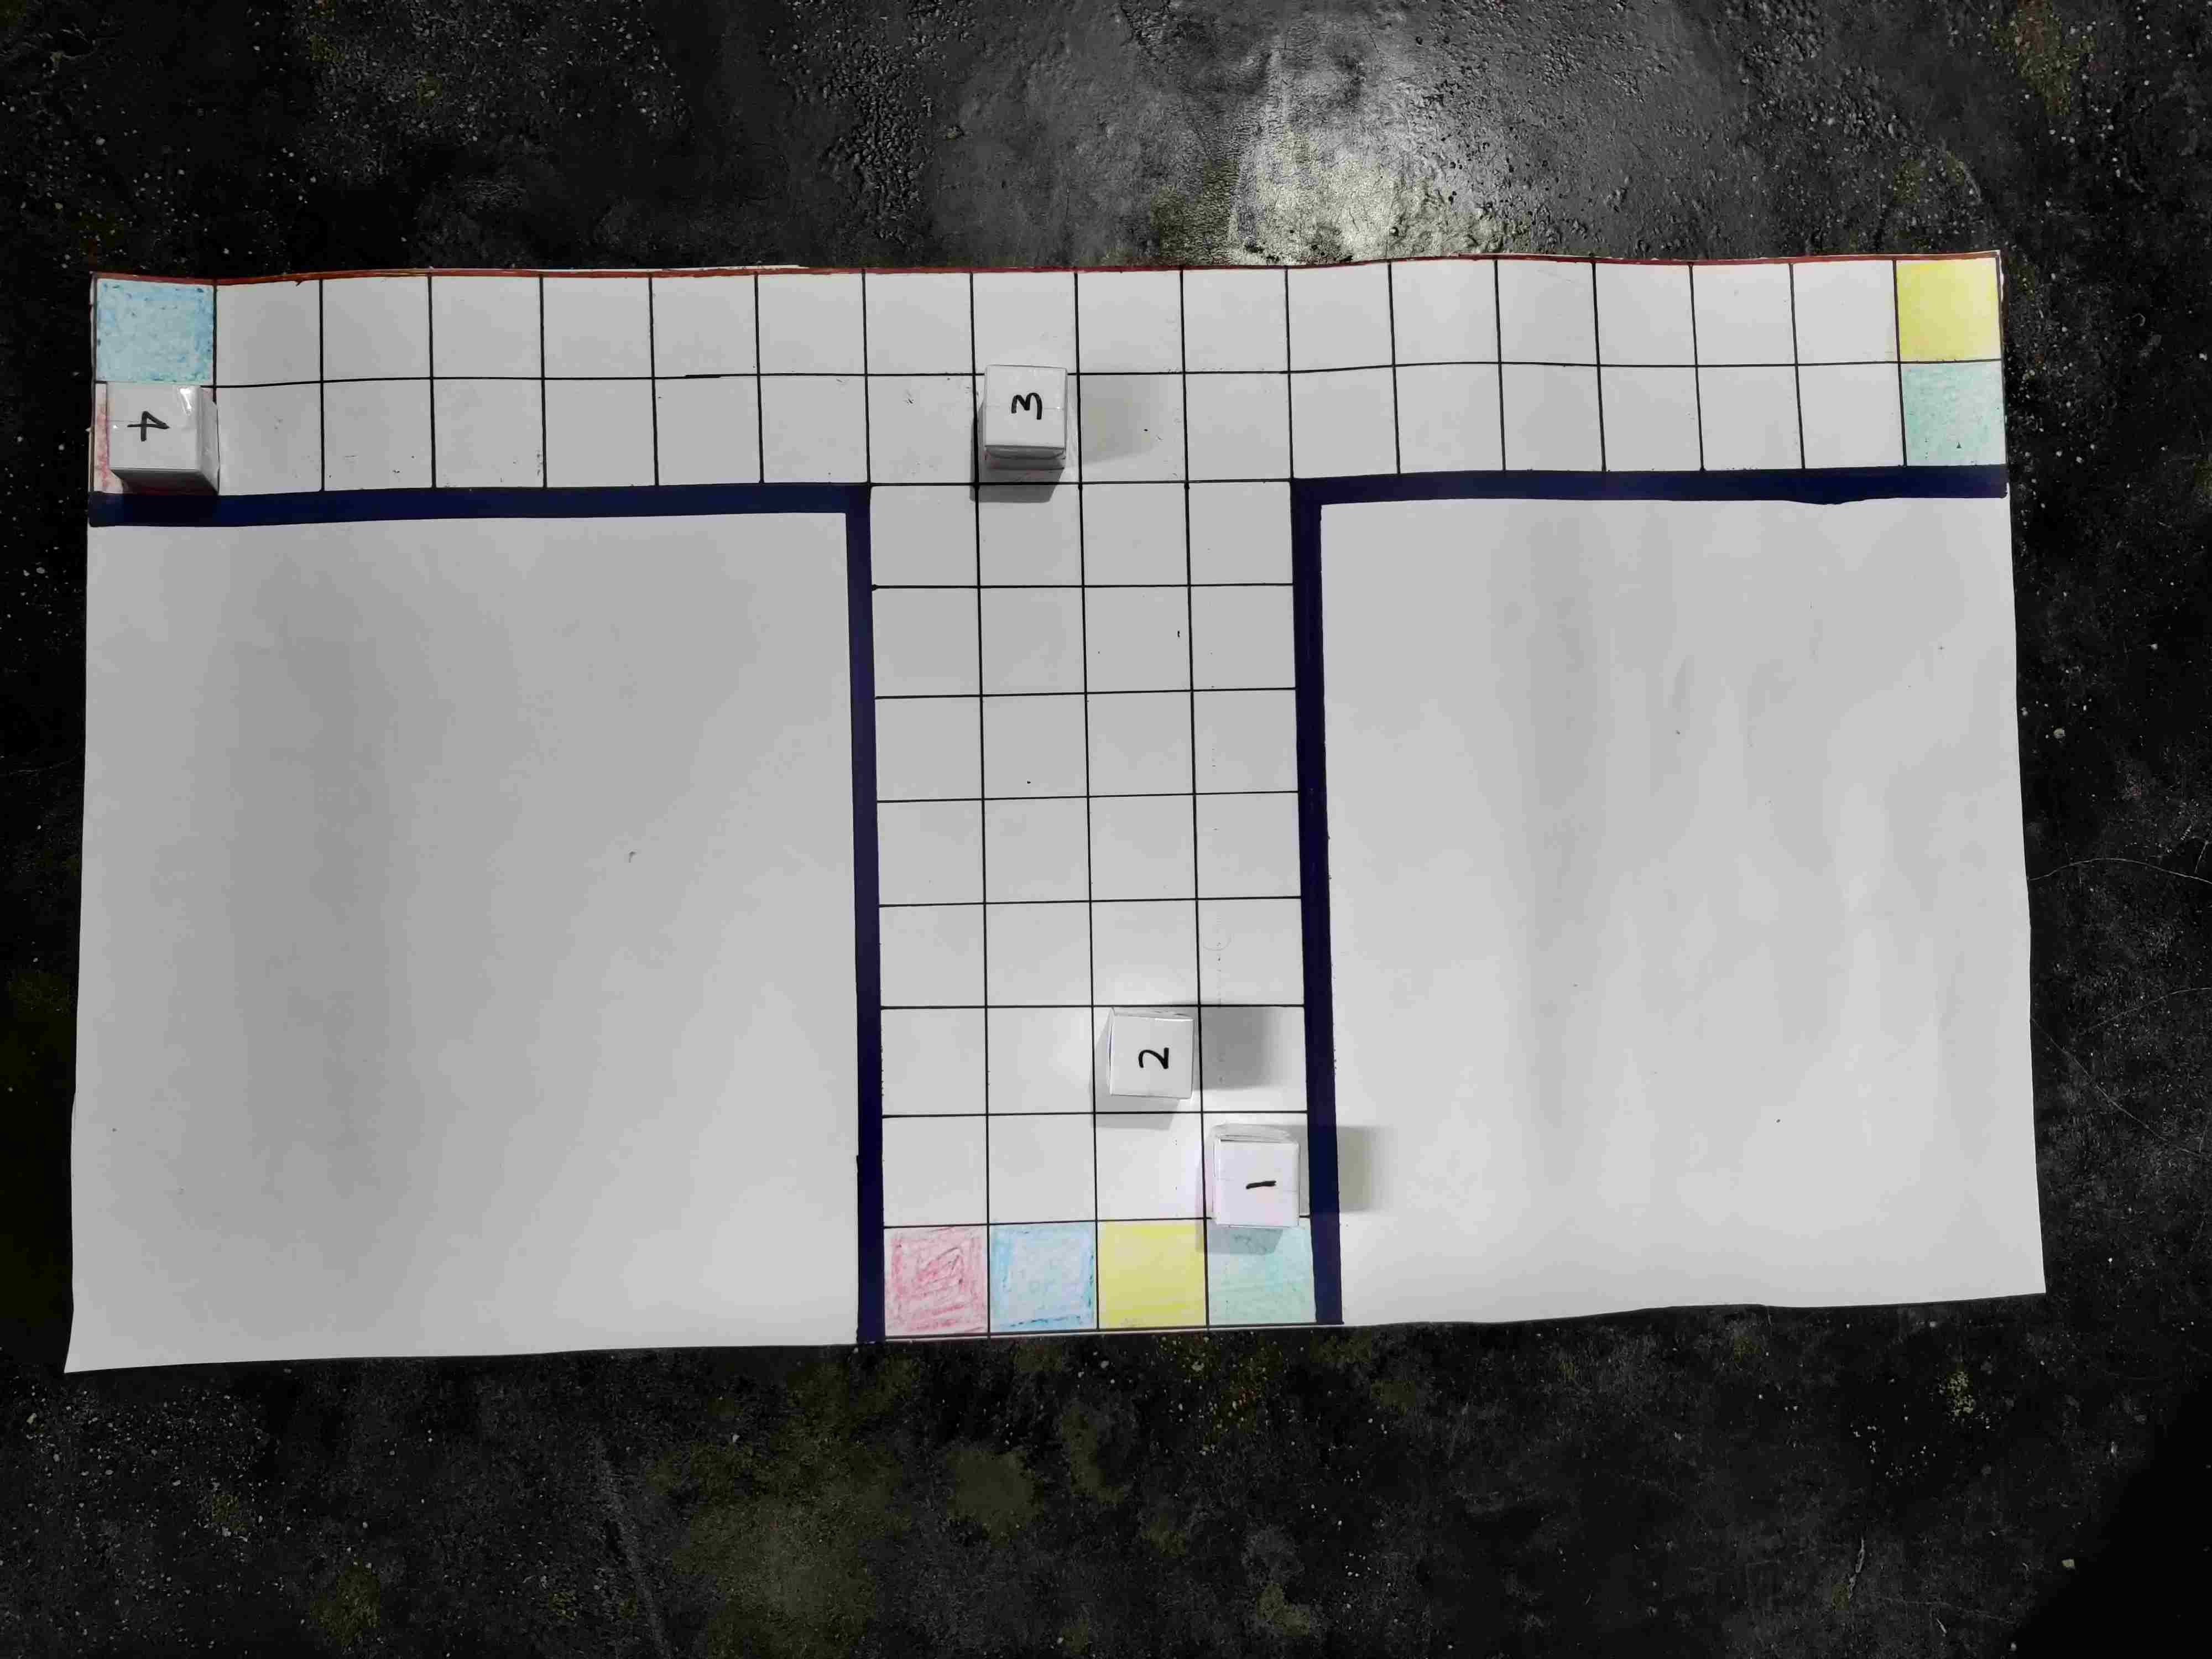arena: (145, 213, 2207, 1363)
bot: (1001, 798, 1094, 890), (1120, 345, 1209, 432), (1341, 807, 1433, 890), (1223, 582, 1313, 662)
